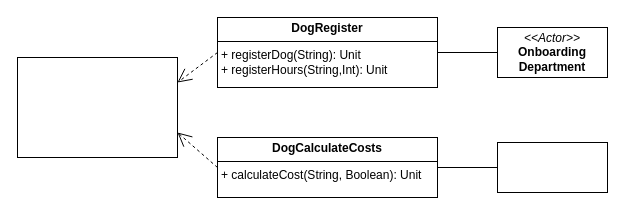
This 625x215 diagram has some shape labels left out. The centre of each missing label's shape, as x and y in pixels:
"<<Actor>> Financial Department" goes at pixel 552 167.
"Dog + name: String + hours: Int + costs: Int + toBePaidByOwner: Int" goes at pixel 97 107.
